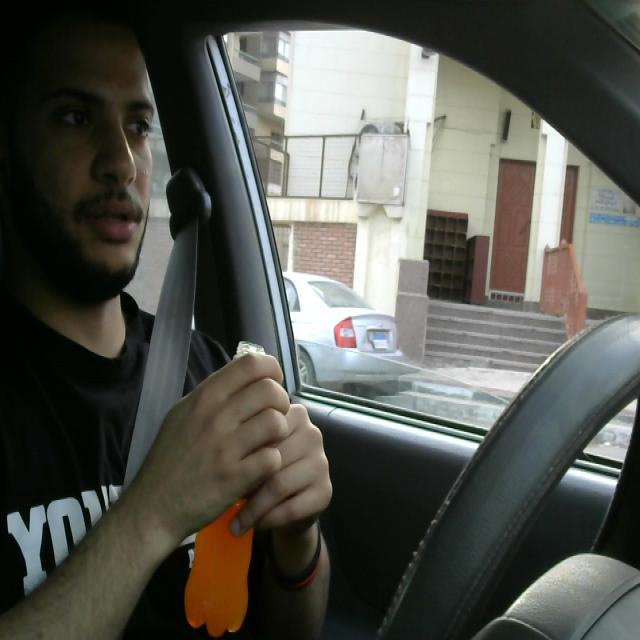drinking: (180, 335, 268, 640)
